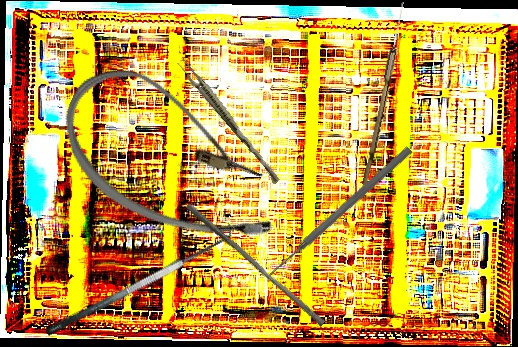Cannula: (39, 50, 309, 267)
Pusher: (263, 144, 414, 282), (180, 202, 330, 328)
Spatula Surgical: (36, 218, 240, 338)
Surgical Spoon: (362, 0, 407, 187)
Tissue Forceps: (174, 57, 285, 185)
